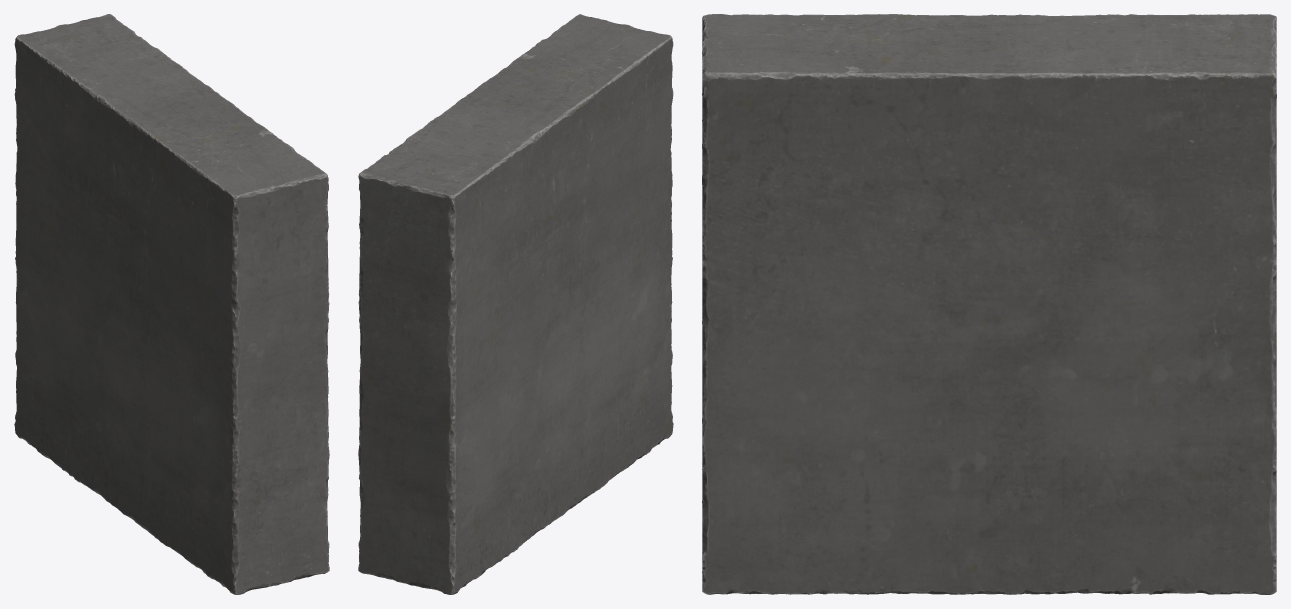
File: SM_Sewer_Wall_Beam_01c.fbx
3 renders of one model, left to right at view 1: azimuth 30°, elevation 25°; view 2: azimuth 150°, elevation 25°; view 3: azimuth 270°, elevation 25°, orthographic. The views are drawn at different scales.
Parts seen in each view (by area): view 1: SM_Sewer_Wall_Beam_01c_LOD0; view 2: SM_Sewer_Wall_Beam_01c_LOD0; view 3: SM_Sewer_Wall_Beam_01c_LOD0.
Boxes of the visible parts, x1,y1,x2,y2 form: SM_Sewer_Wall_Beam_01c_LOD0: [14, 14, 329, 594]; SM_Sewer_Wall_Beam_01c_LOD0: [358, 14, 673, 594]; SM_Sewer_Wall_Beam_01c_LOD0: [702, 14, 1276, 594].
Bounding box in the file's own units: 50.14 × 200 × 200.
